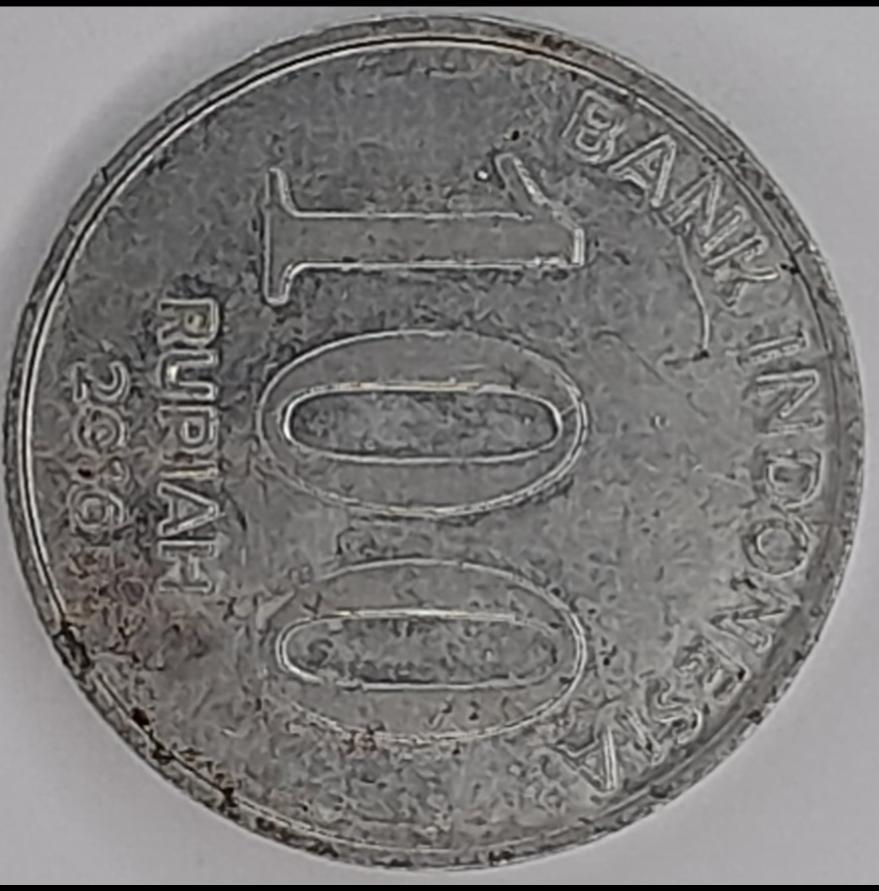coin_100_e2016: (0, 8, 872, 873)
